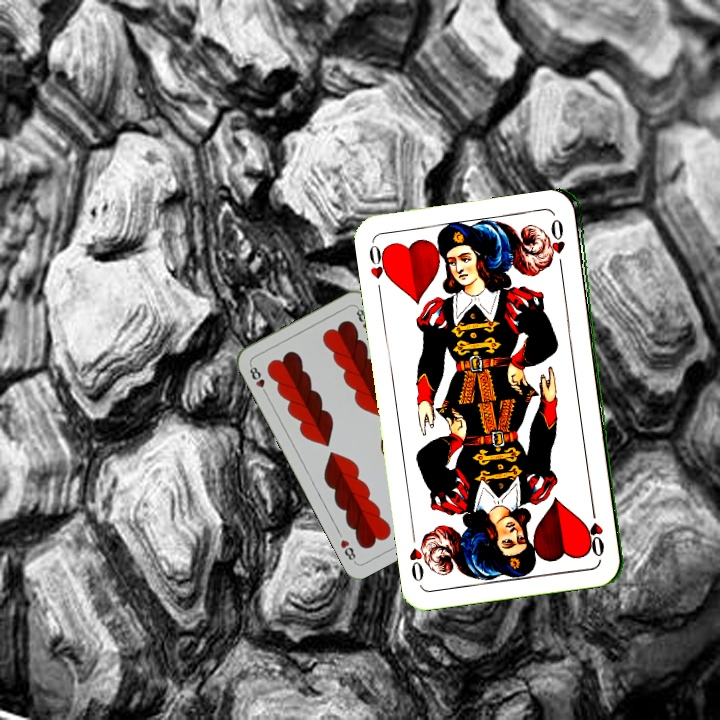H8: (245, 360, 270, 398)
HO: (365, 239, 394, 284), (587, 502, 607, 560)
